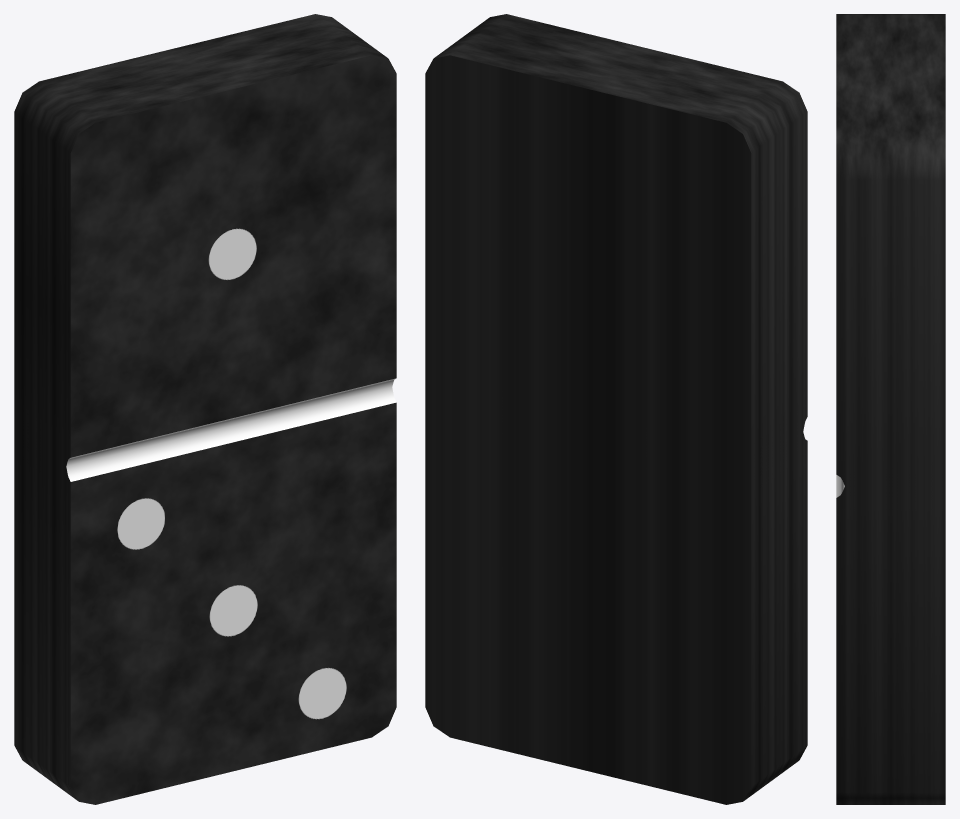
Rendered from Dominos.FBX.
3 renders of one model, left to right at view 1: azimuth 30°, elevation 25°; view 2: azimuth 150°, elevation 25°; view 3: azimuth 270°, elevation 25°, orthographic. The views are drawn at different scales.
Parts seen in each view (by area): view 1: Box001; view 2: Box001; view 3: Box001.
Boxes of the visible parts, x1,y1,x2,y2 form: Box001: [14, 14, 396, 804]; Box001: [425, 14, 807, 804]; Box001: [836, 14, 945, 804].
Bounding box in the file's own units: 19.69 × 39.37 × 5.91.
1 material, 1 textured.
